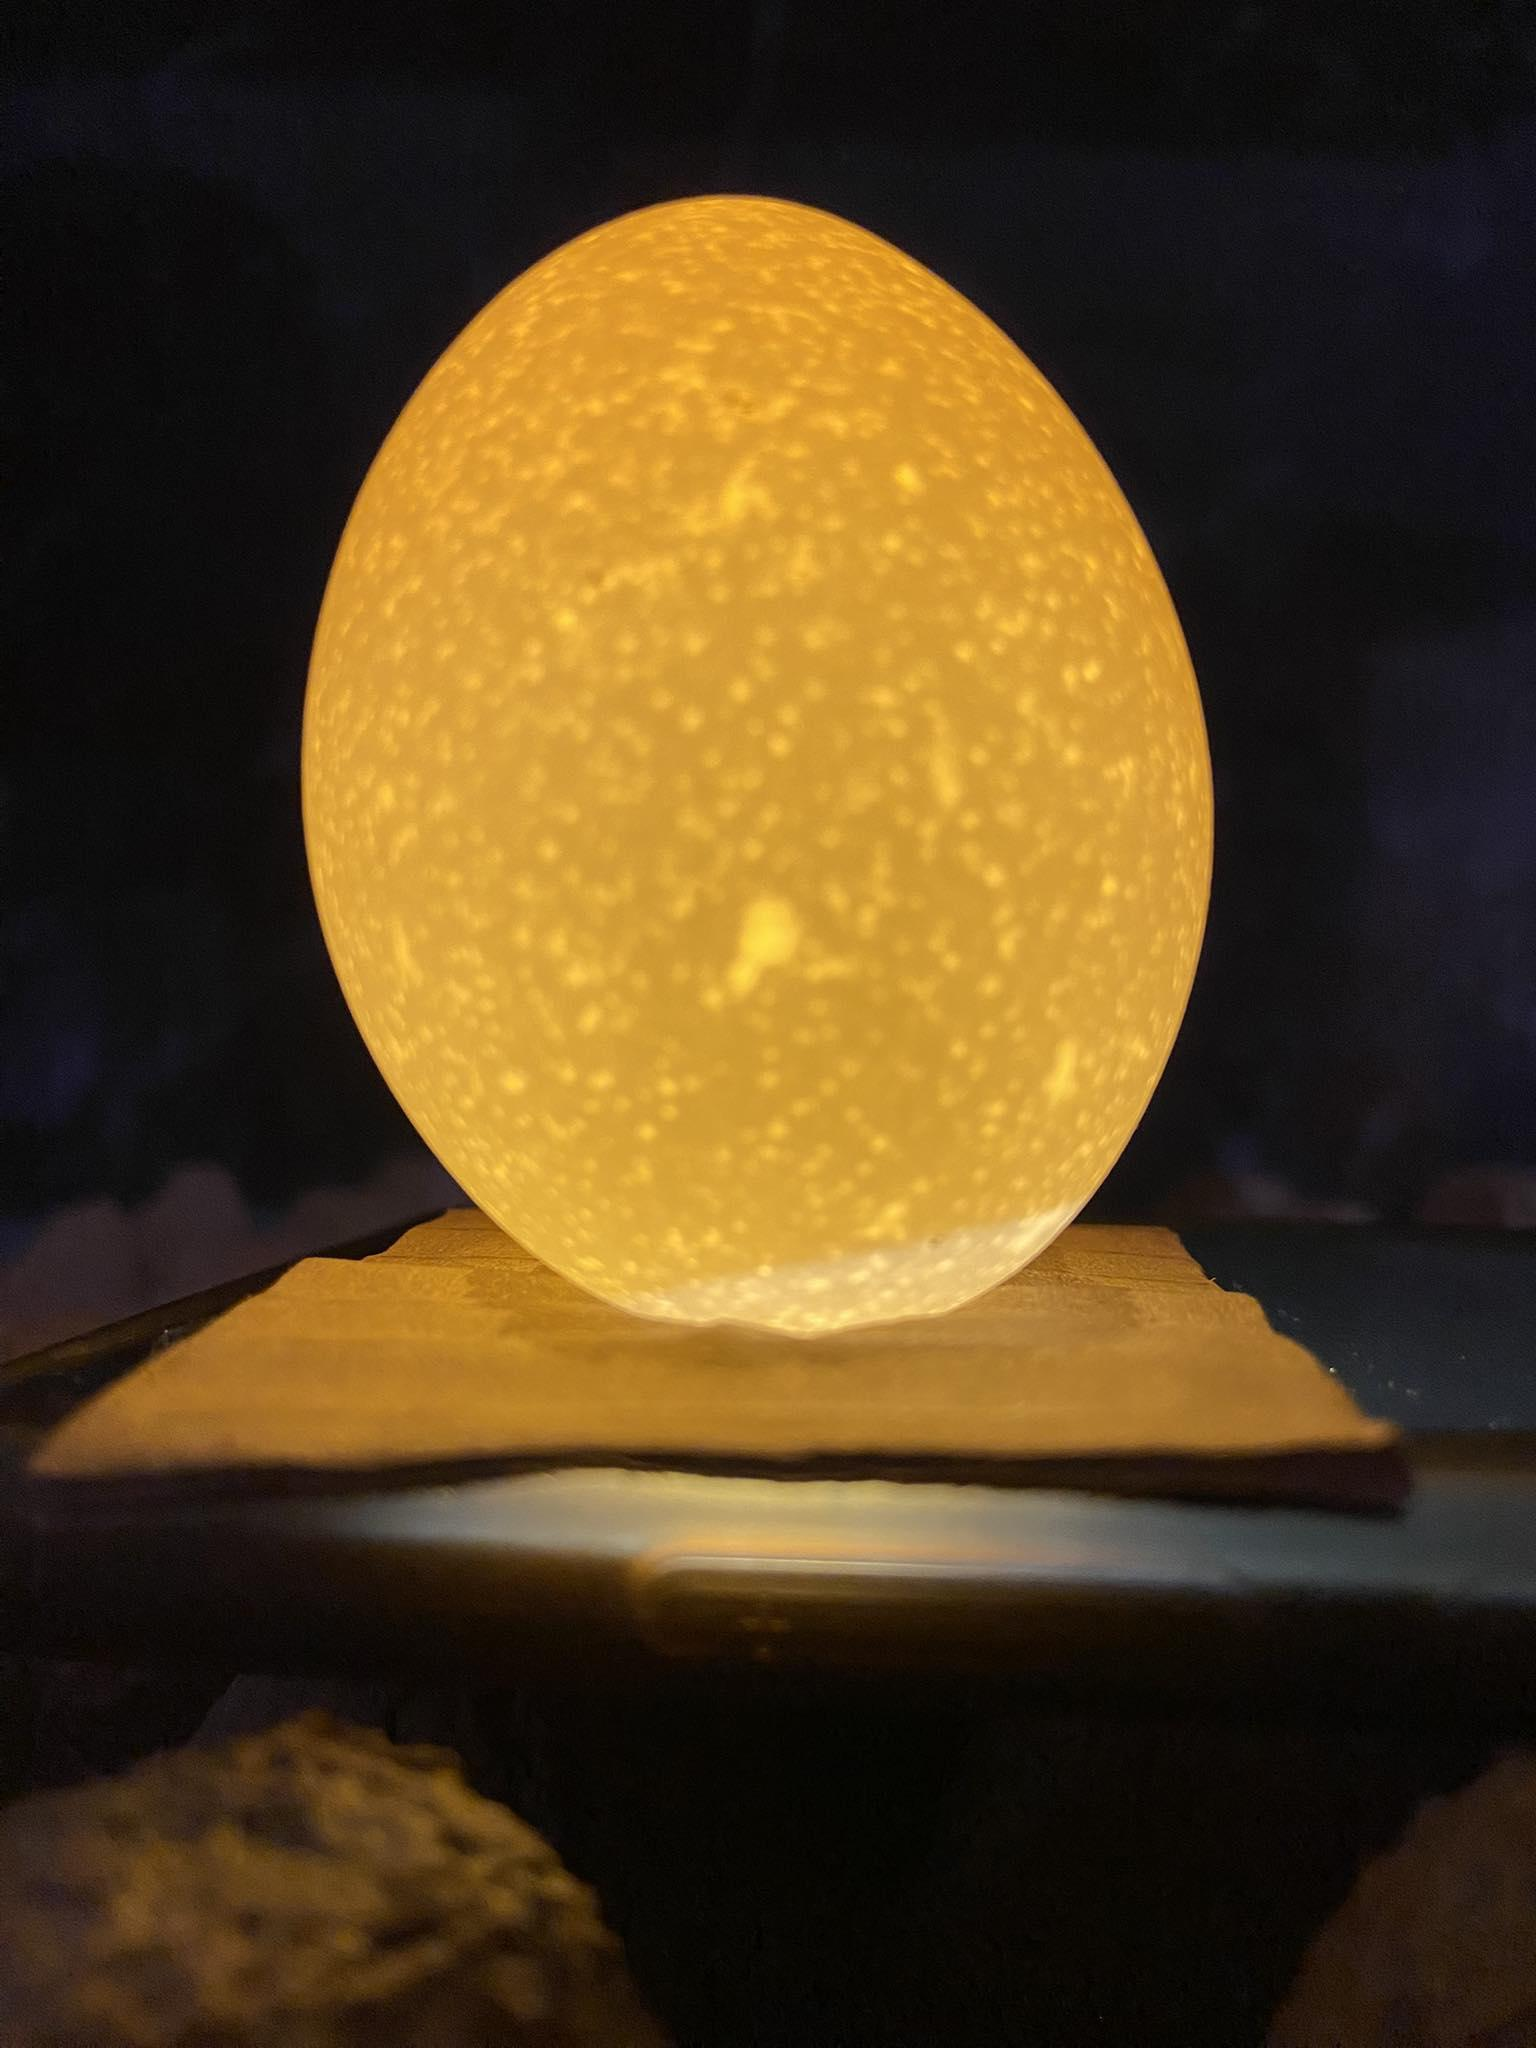A - Good: (300, 181, 1226, 1374)
